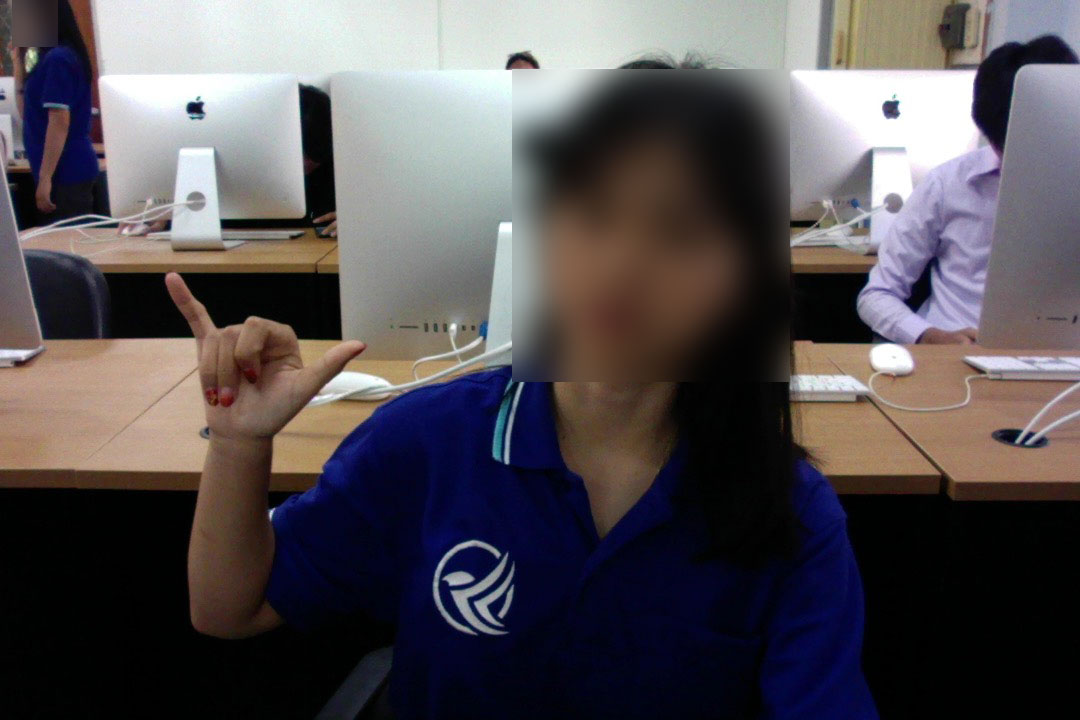yor: (163, 268, 370, 451)
